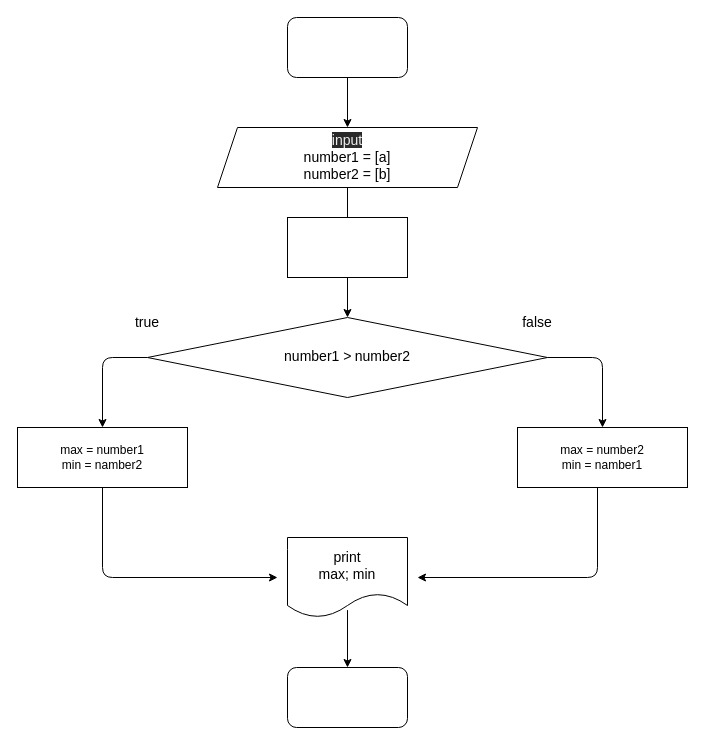
Some shapes in this 705 by 745 pixel diagram are drawn without their labels. The shapes that lost their labels are listed below. From the top down, each one's centre as x and y in pixels, then its label:
At (x=347, y=47): "Snart".
At (x=347, y=247): "max = 0 min = 0".
At (x=347, y=697): "End".
